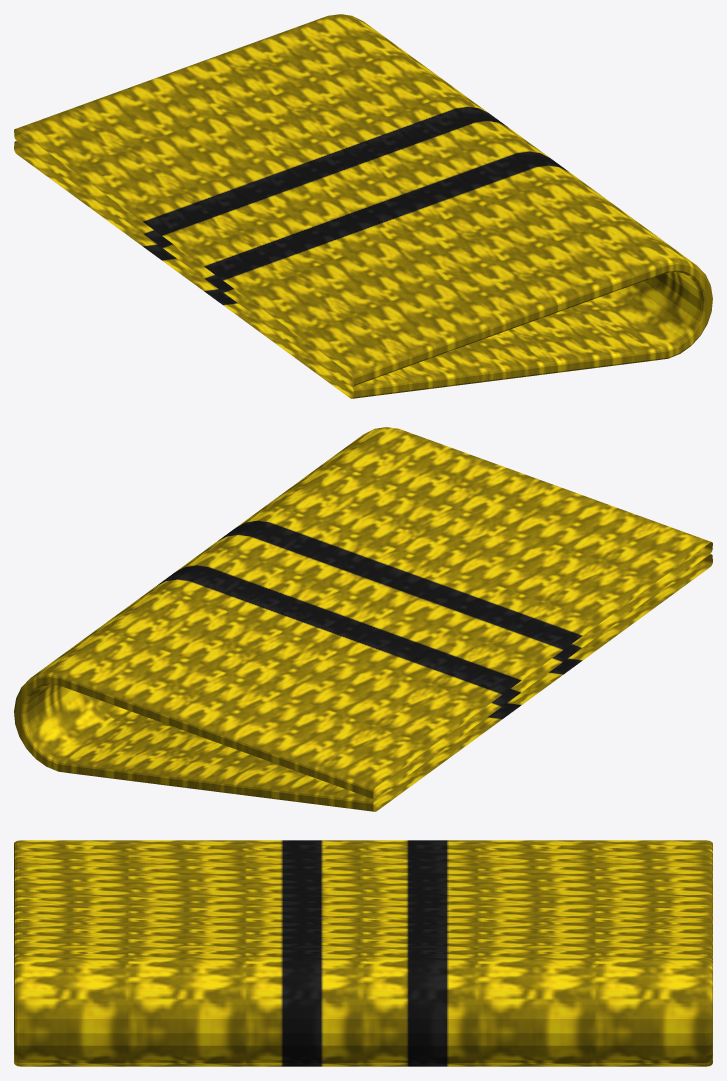
File: schlaufe_50mm_lc1000_gelb_2streifen_v34260.glb
3 renders of one model, top to bottom at view 1: azimuth 30°, elevation 25°; view 2: azimuth 150°, elevation 25°; view 3: azimuth 270°, elevation 25°, orthographic. The views are drawn at different scales.
Visible parts, largest first — view 1: Schlaufe_25mm; view 2: Schlaufe_25mm; view 3: Schlaufe_25mm.
Boxes of the visible parts, x1,y1,x2,y2 form: Schlaufe_25mm: [14, 14, 712, 398]; Schlaufe_25mm: [14, 427, 712, 811]; Schlaufe_25mm: [14, 840, 712, 1066].
Bounding box in the file's own units: 1.23 × 0.3206 × 2.
1 material, 1 textured.
